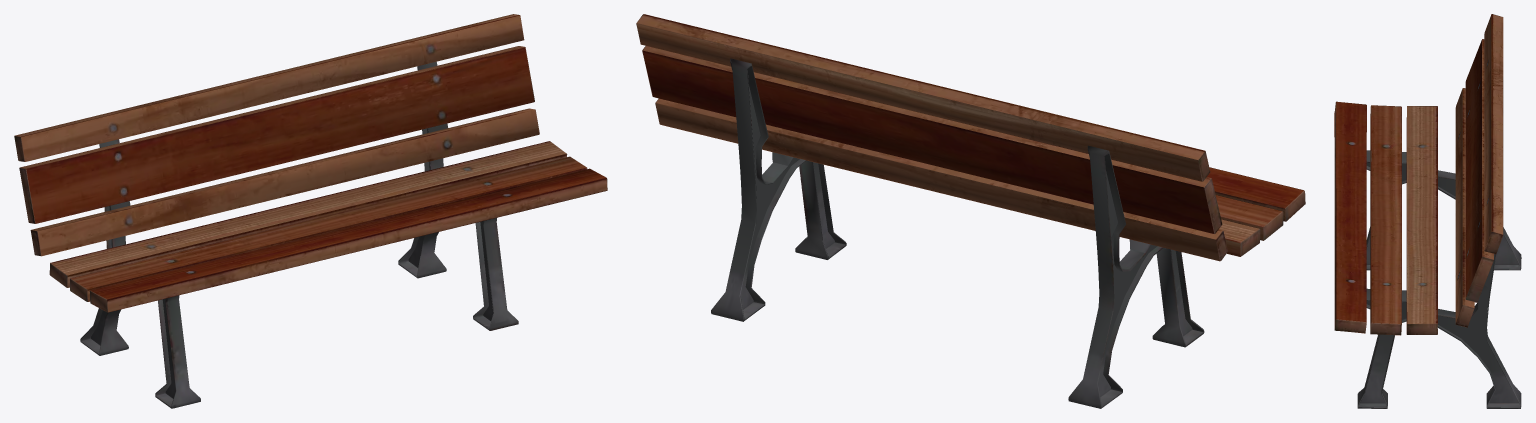
Rendered from bench-classic.glb.
The picture shows the model from 3 angles, left to right: view 1: azimuth 30°, elevation 25°; view 2: azimuth 150°, elevation 25°; view 3: azimuth 270°, elevation 25°; orthographic projection. The views are drawn at different scales.
Visible parts, largest first — view 1: bench-classic; view 2: bench-classic; view 3: bench-classic.
Part boxes in pixels (box(x1,y1,x2,y2)): bench-classic: box(14, 14, 607, 408); bench-classic: box(636, 14, 1305, 408); bench-classic: box(1334, 14, 1521, 408).
Bounding box in the file's own units: 2 × 0.9007 × 0.724.
3 materials, 3 textured.
